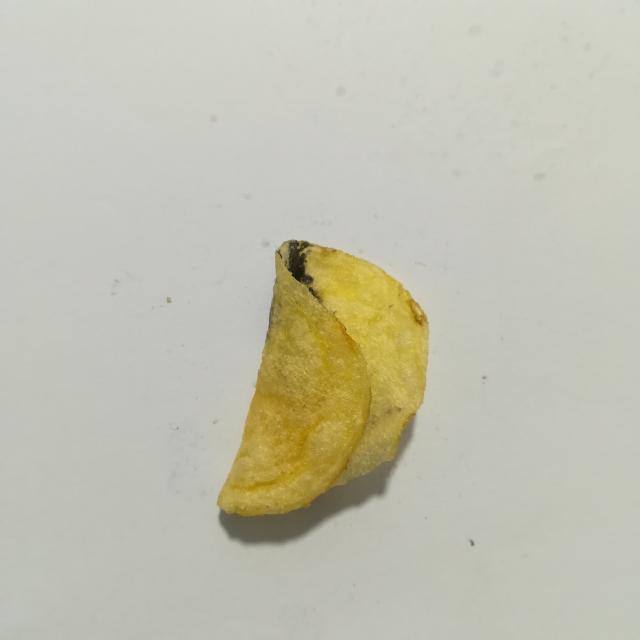chip: (217, 240, 429, 516)
damaged: (276, 240, 322, 303)
